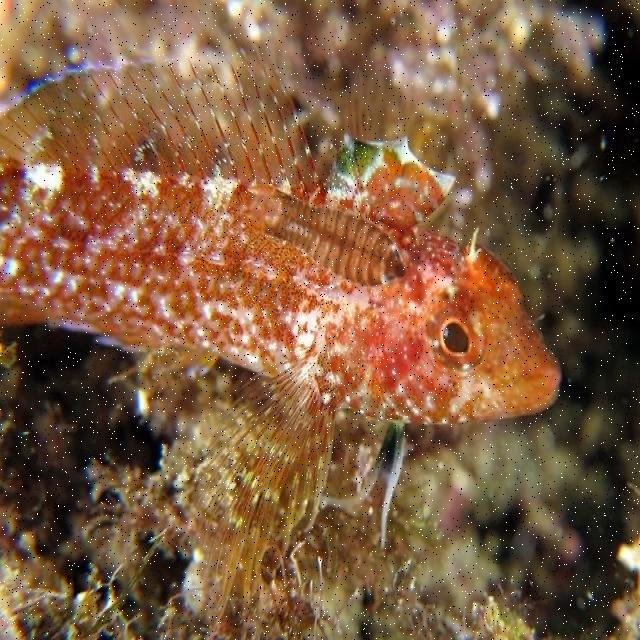fish: (0, 24, 563, 630)
